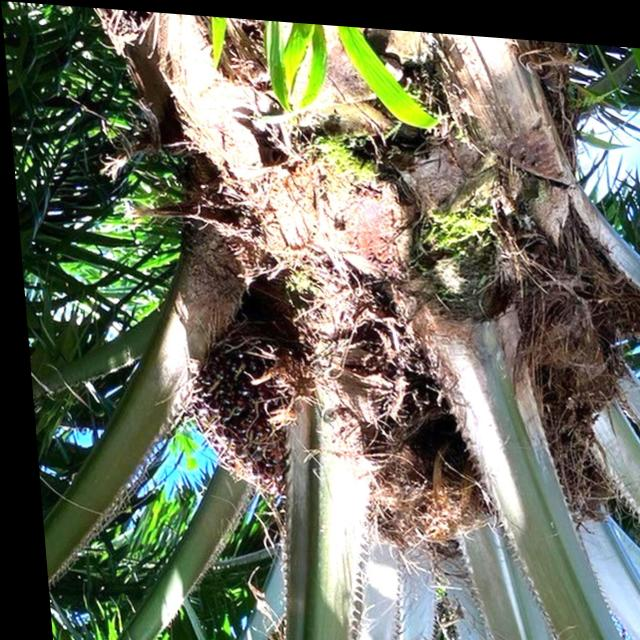ripe: (166, 291, 316, 509)
